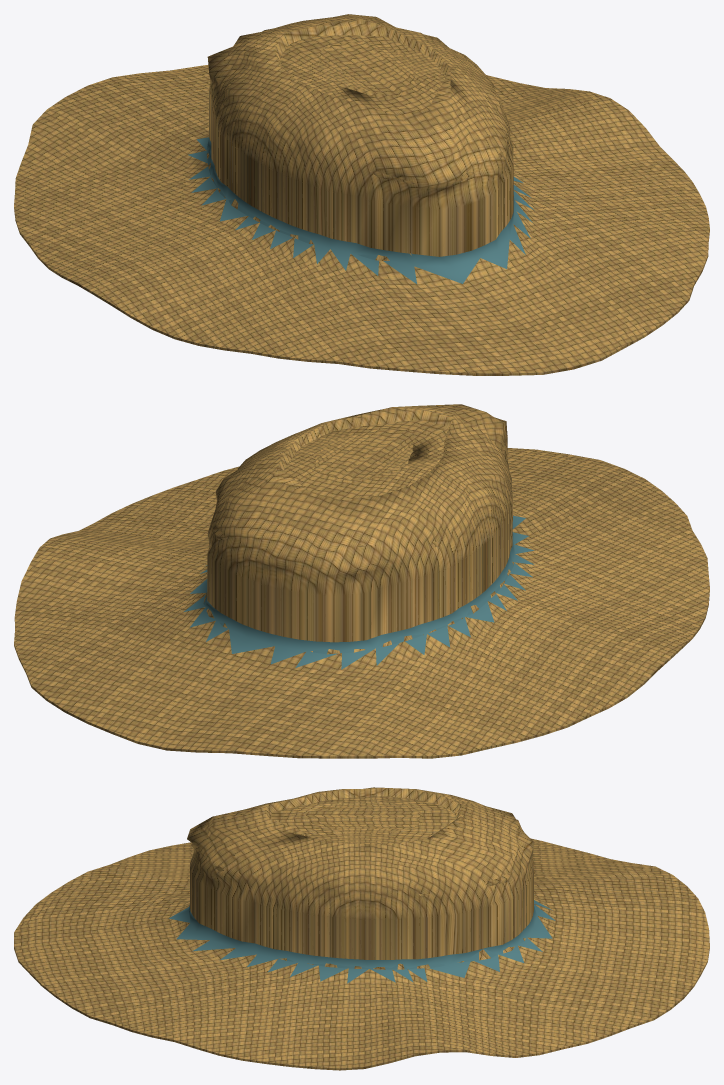
Rendered from croc_hat_sun.glb.
3 views of the same model, one above another, from view 1: azimuth 30°, elevation 25°; view 2: azimuth 150°, elevation 25°; view 3: azimuth 270°, elevation 25° (orthographic). The views are drawn at different scales.
Visible parts, largest first — view 1: CrocHat_sun; view 2: CrocHat_sun; view 3: CrocHat_sun.
Part boxes in pixels (<box>): CrocHat_sun: <box>14,14,709,375</box>; CrocHat_sun: <box>14,404,709,758</box>; CrocHat_sun: <box>14,787,709,1070</box>.
Size of the model in its own units: 0.5192 by 0.1325 by 0.6223.
2 materials, 1 textured.
